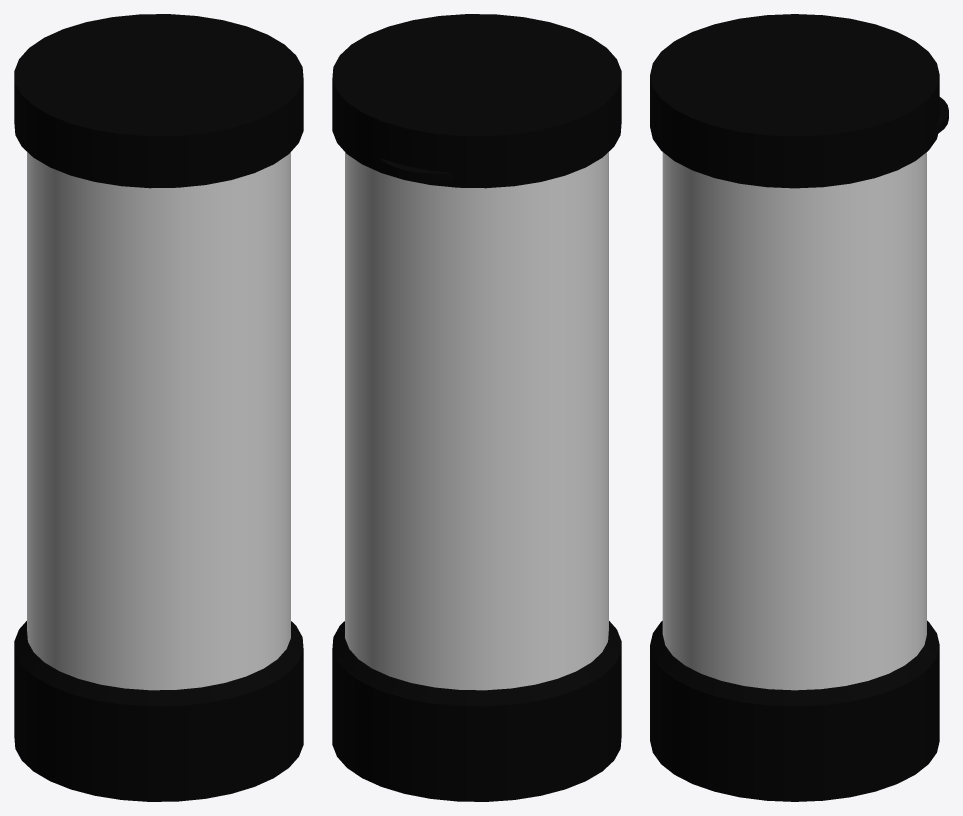
File: ScumCage.fbx
The picture shows the model from 3 angles, left to right: view 1: azimuth 30°, elevation 25°; view 2: azimuth 150°, elevation 25°; view 3: azimuth 270°, elevation 25°; orthographic projection.
Parts seen in each view (by area): view 1: scummyCage.001, scummyCage; view 2: scummyCage.001, scummyCage; view 3: scummyCage.001, scummyCage.
Part boxes in pixels (box(x1,y1,x2,y2)): scummyCage.001: box(27, 152, 290, 690); scummyCage: box(14, 14, 303, 801); scummyCage.001: box(345, 152, 608, 690); scummyCage: box(332, 14, 621, 801); scummyCage.001: box(662, 152, 926, 690); scummyCage: box(650, 14, 948, 801).
Bounding box in the file's own units: 1303 × 3303 × 1344.
